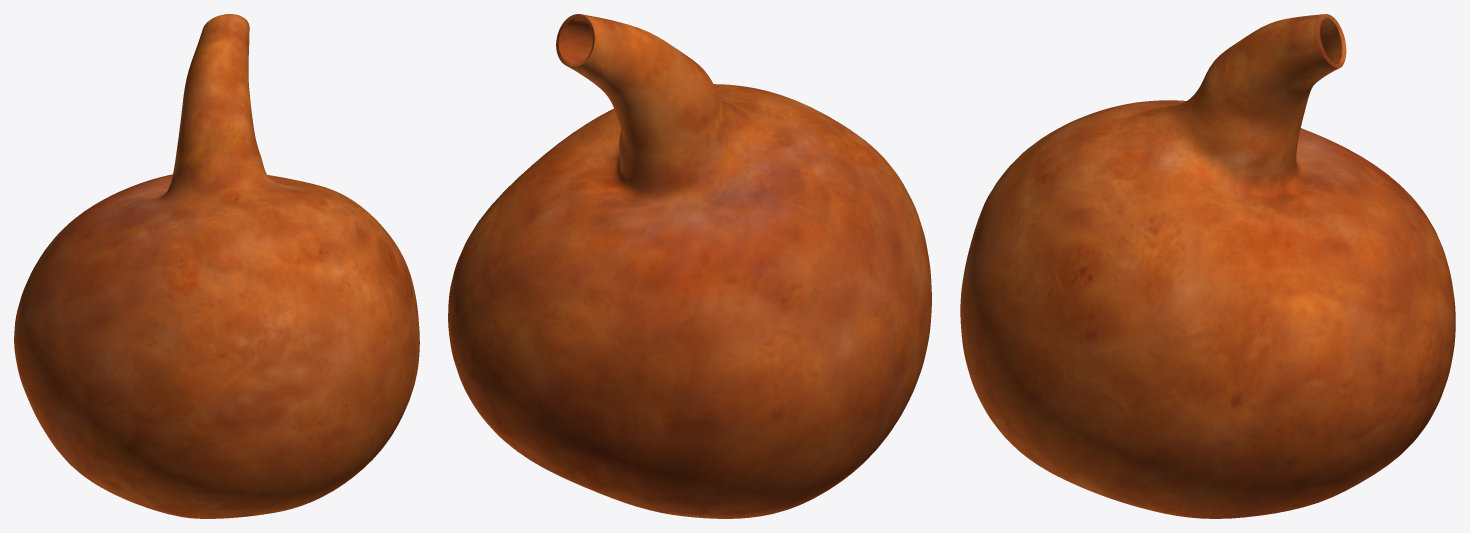
The model's file is Igisabo_final.fbx.
The picture shows the model from 3 angles, left to right: view 1: azimuth 30°, elevation 25°; view 2: azimuth 150°, elevation 25°; view 3: azimuth 270°, elevation 25°; orthographic projection. The views are drawn at different scales.
Parts seen in each view (by area): view 1: Igisabo; view 2: Igisabo; view 3: Igisabo.
Part boxes in pixels (x1=…): Igisabo: x1=14, y1=14, x2=419, y2=518; Igisabo: x1=448, y1=14, x2=931, y2=518; Igisabo: x1=960, y1=14, x2=1455, y2=518.
Bounding box in the file's own units: 285 × 317 × 292.
